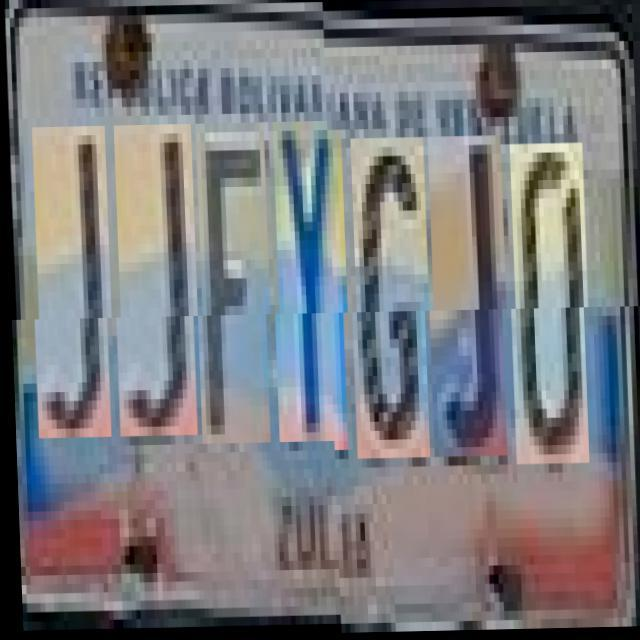0: (508, 146, 590, 467)
F: (194, 132, 272, 454)
G: (349, 140, 432, 460)
J: (113, 134, 199, 446), (426, 138, 508, 459), (31, 136, 113, 448)
Y: (272, 131, 349, 452)
